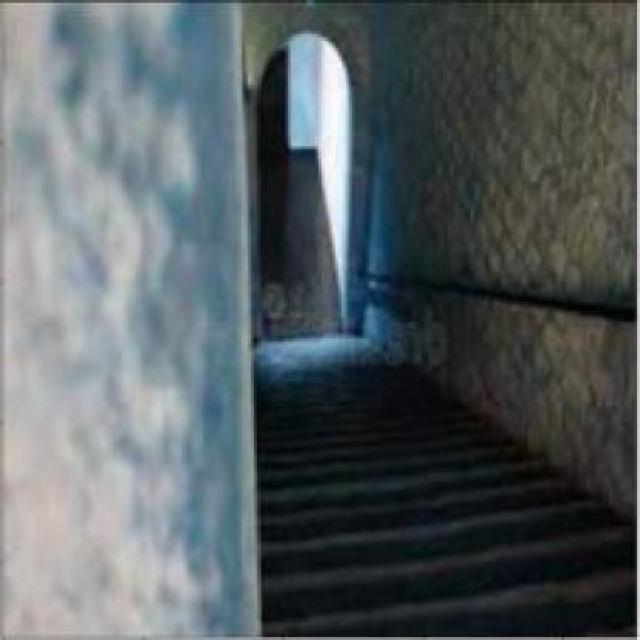stair: (254, 471, 617, 629)
